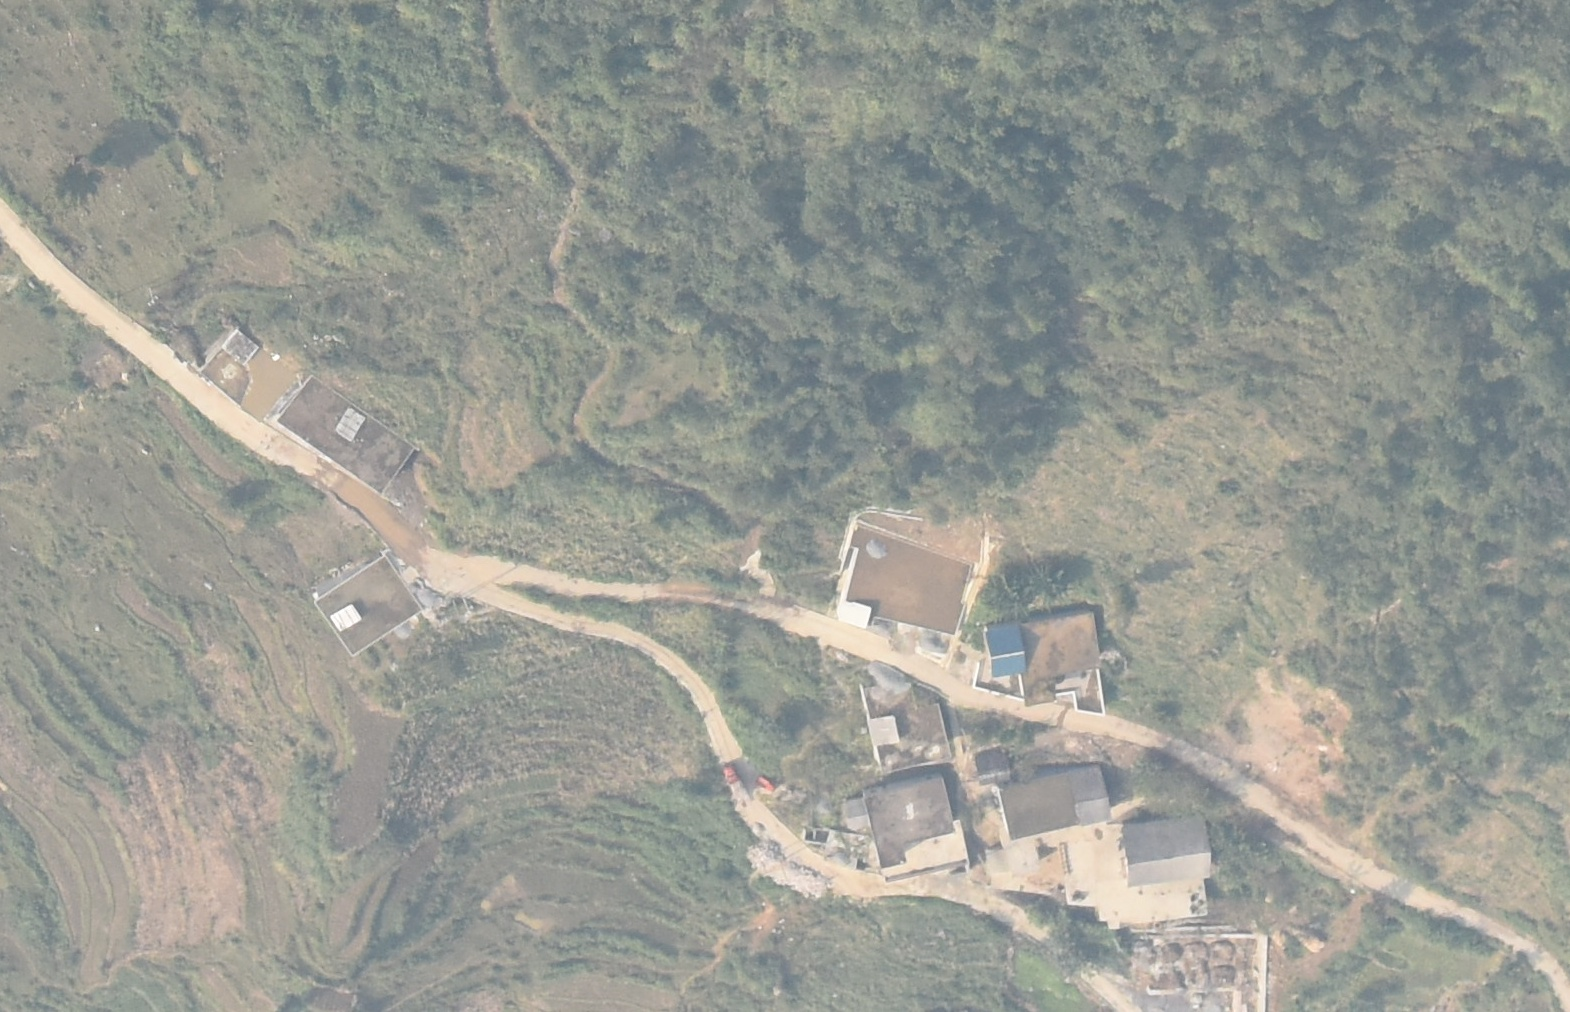building: (265, 371, 425, 507), (828, 519, 981, 649), (979, 601, 1121, 718), (308, 549, 419, 657), (857, 772, 959, 867), (1116, 814, 1211, 889), (989, 769, 1079, 843), (223, 326, 263, 368)
